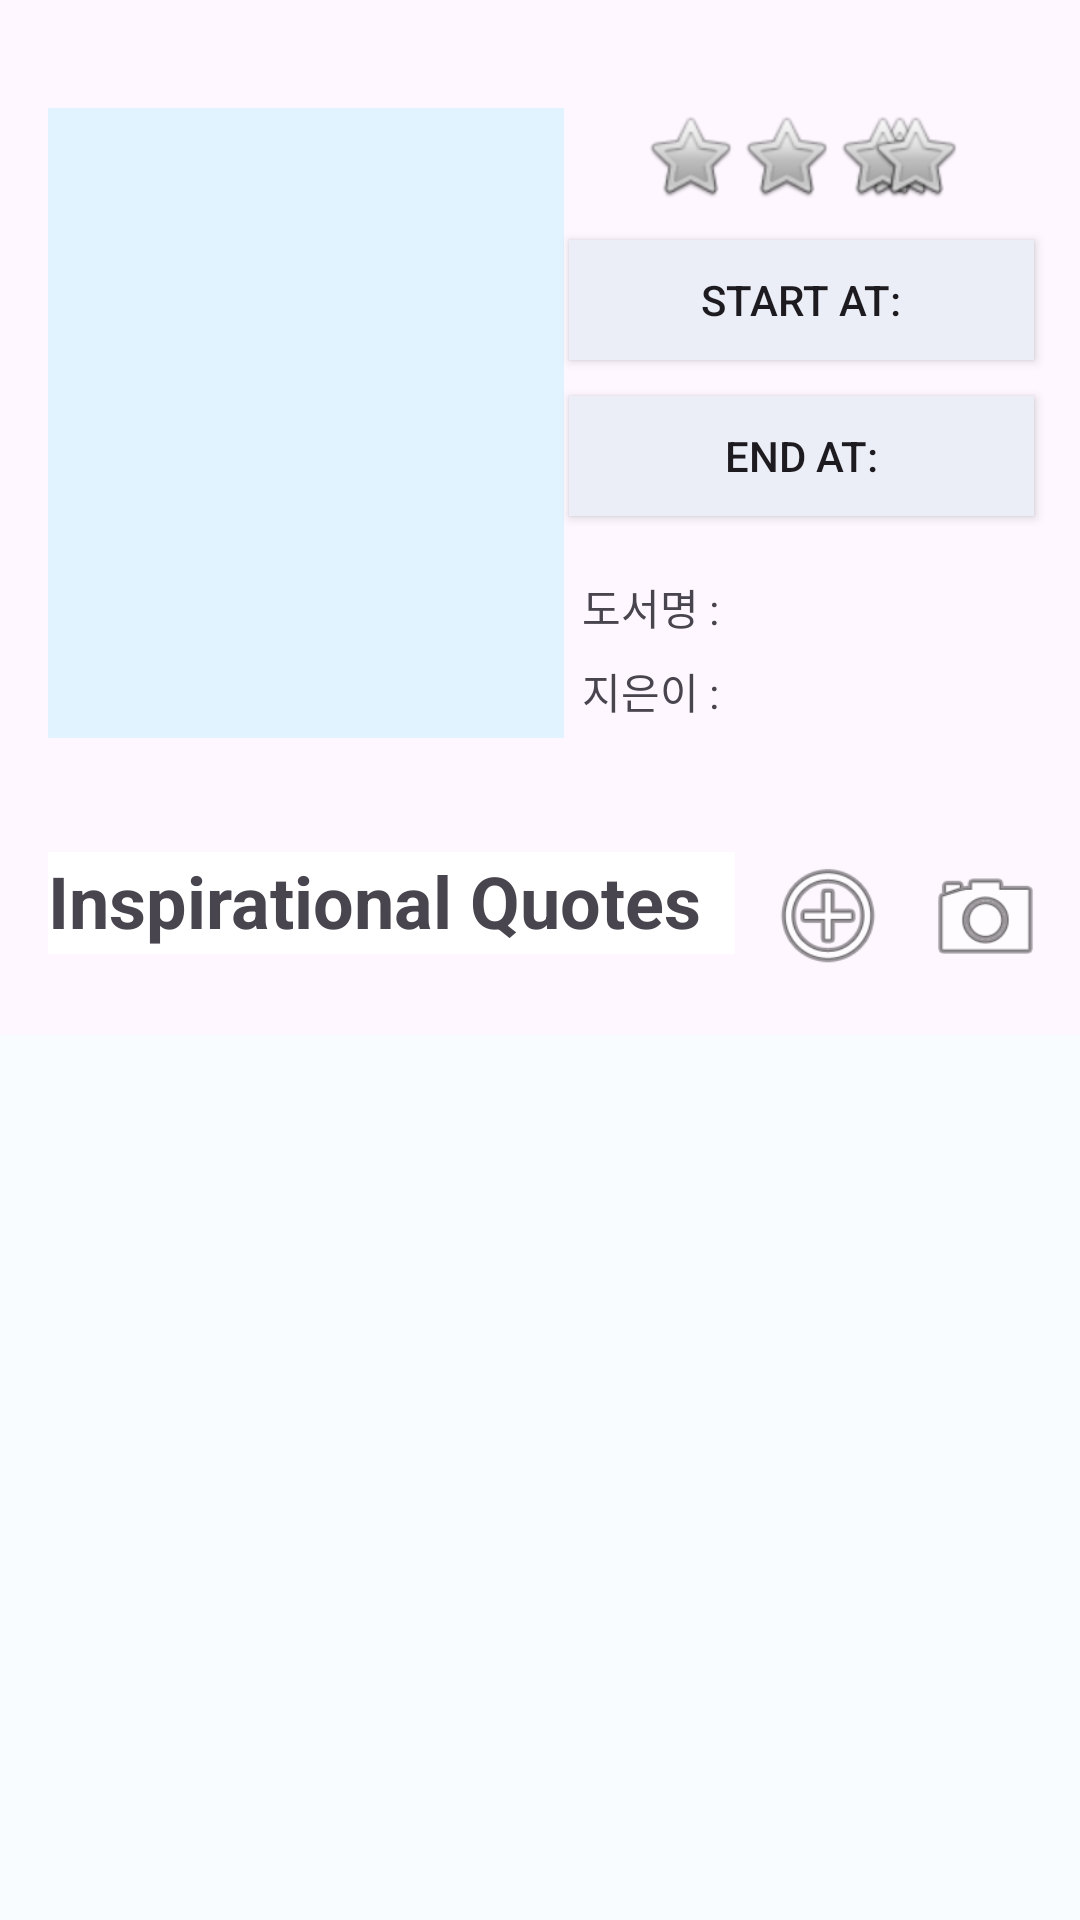

Where to tap for icons on this 1080 x 1920 app screen, as (x=x, y=y):
add: (x=828, y=916)
camera: (x=985, y=916)
